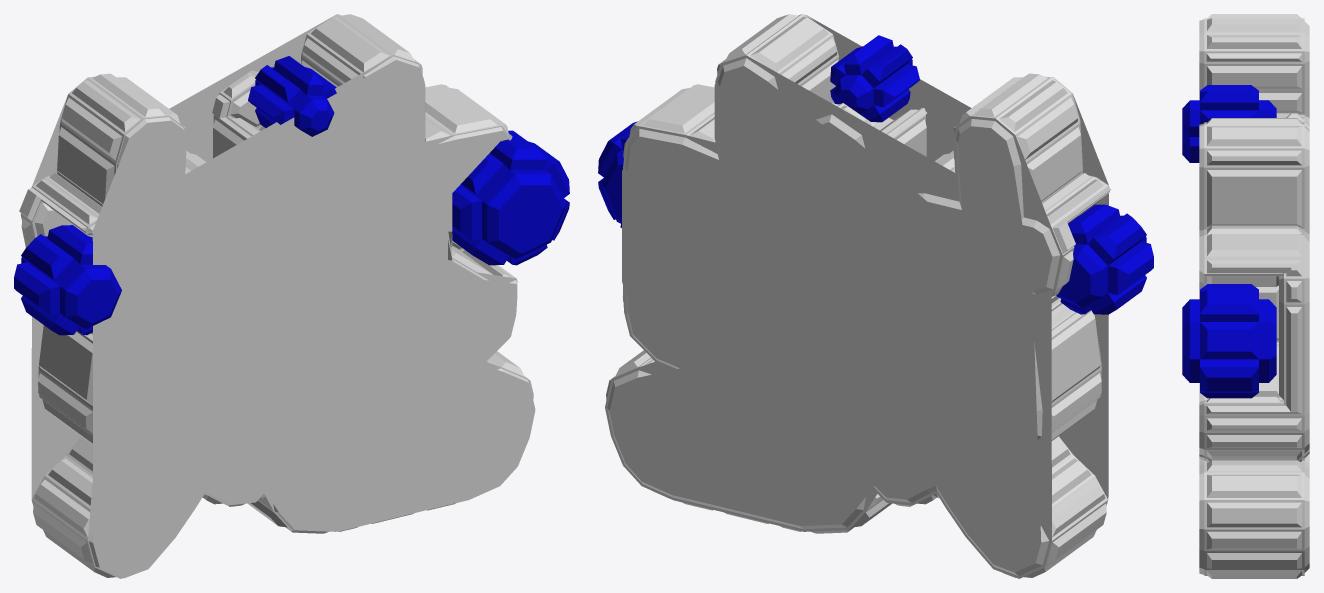
File: Ch_China_她_01.fbx
3 renders of one model, left to right at view 1: azimuth 30°, elevation 25°; view 2: azimuth 150°, elevation 25°; view 3: azimuth 270°, elevation 25°, orthographic. The views are drawn at different scales.
Parts seen in each view (by area): view 1: sphere1; view 2: sphere1; view 3: sphere1.
Boxes of the visible parts, bbox=[...] form: sphere1: bbox=[14, 14, 569, 578]; sphere1: bbox=[598, 14, 1153, 578]; sphere1: bbox=[1182, 14, 1309, 578].
Bounding box in the file's own units: 1.09 × 0.9209 × 0.2541.
